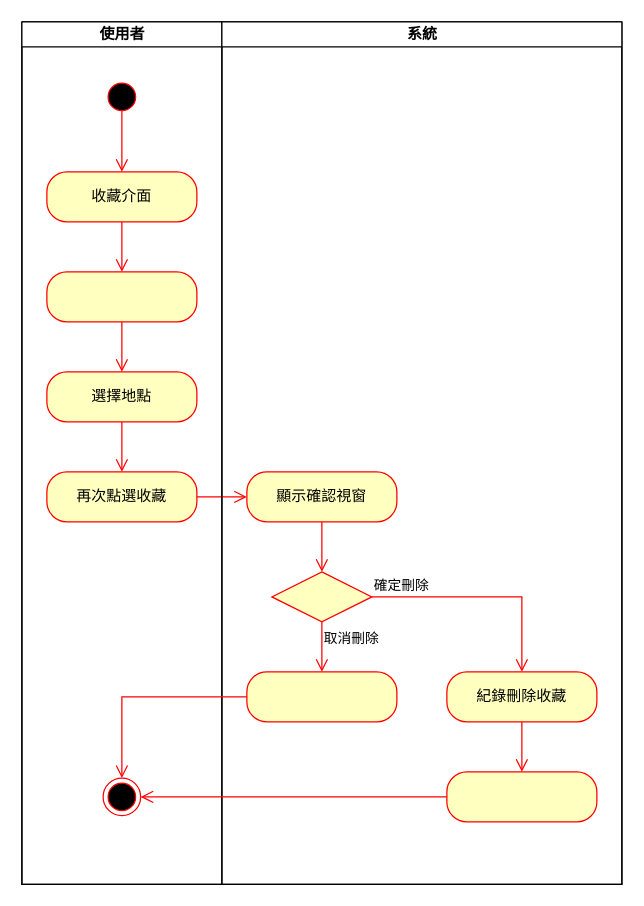
Image size: 644x906. Some labels were removed from this diagram. Each missing label, with the centre of its shape:
進入列表: pixel 121 296
顯示刪除失敗: pixel 321 696
顯示刪除成功: pixel 521 796
